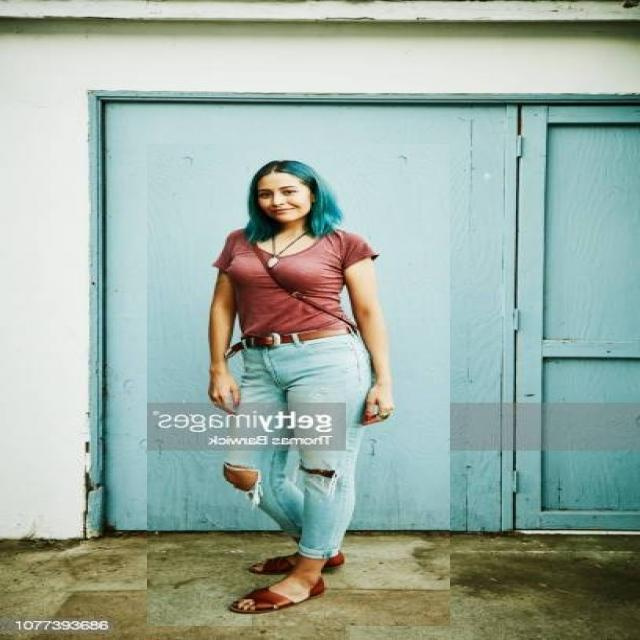NotFall: (135, 114, 434, 640)
